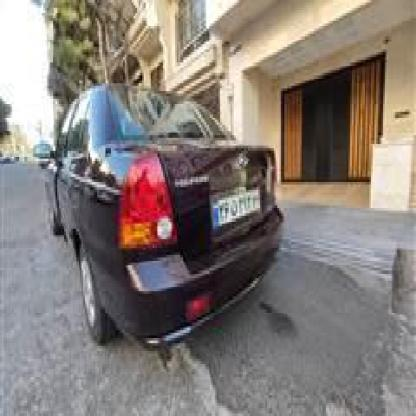Car: (34, 78, 290, 359)
